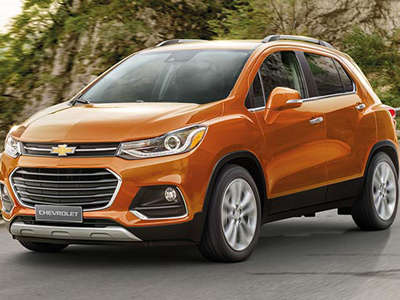car: (1, 35, 400, 258)
